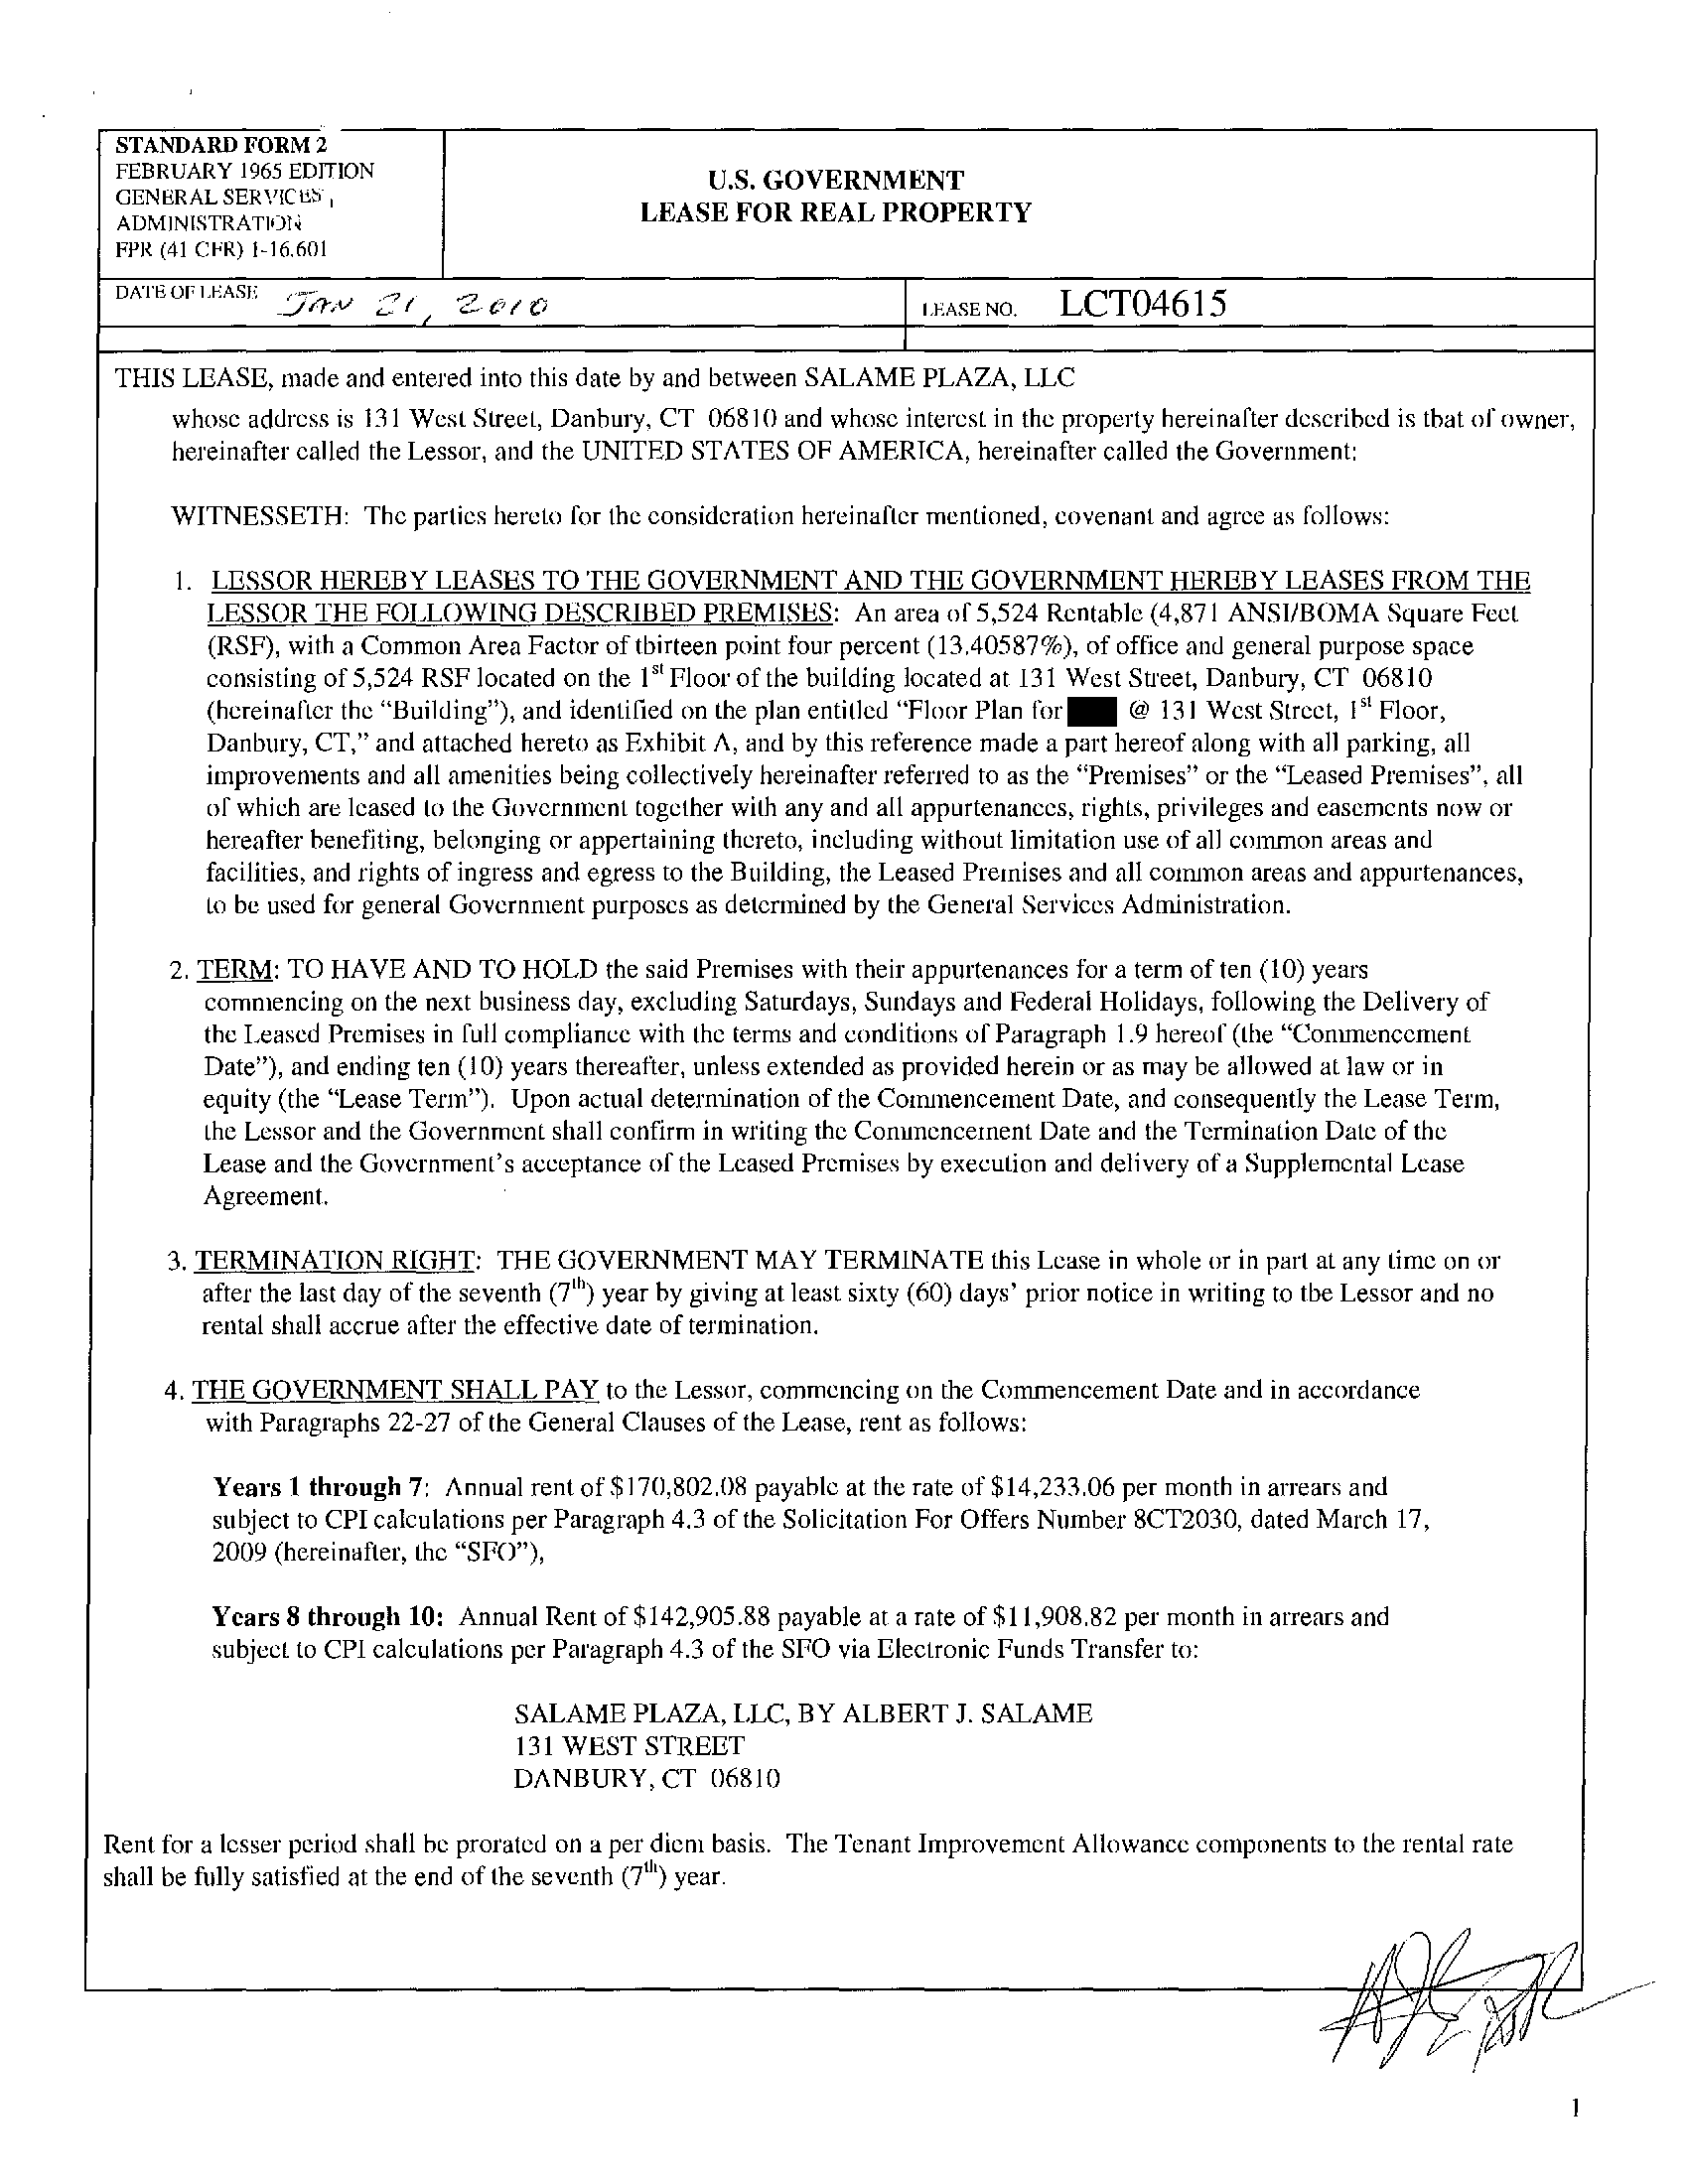handwritten: (1300, 1918, 1656, 2079)
